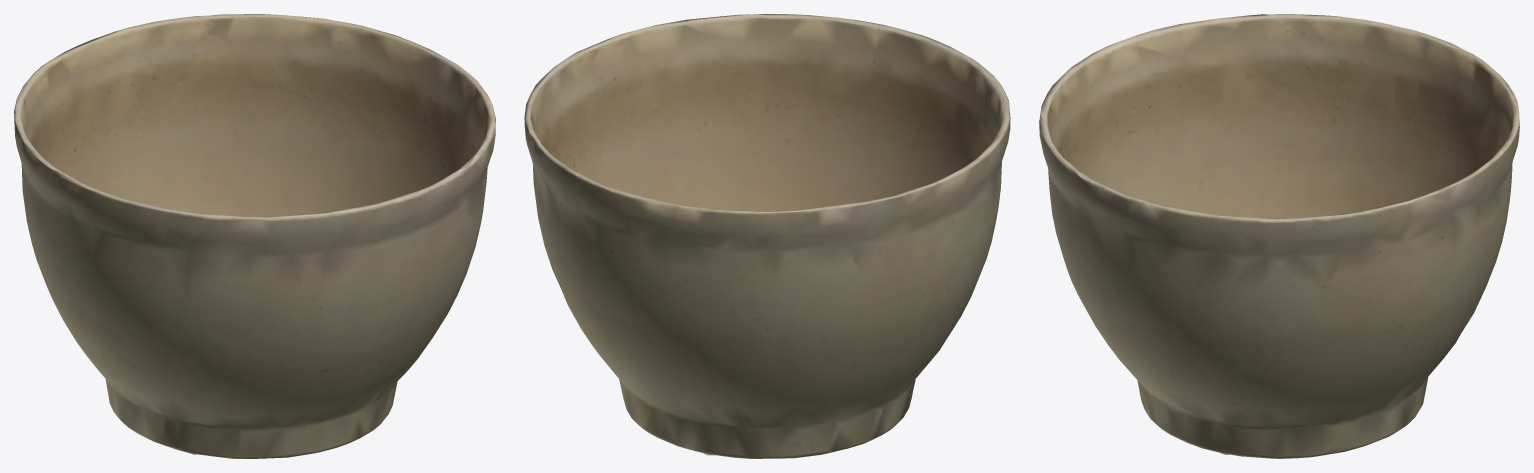
The model's file is footed-bowl.glb.
The picture shows the model from 3 angles, left to right: view 1: azimuth 30°, elevation 25°; view 2: azimuth 150°, elevation 25°; view 3: azimuth 270°, elevation 25°; orthographic projection.
Visible parts, largest first — view 1: Footed_Bowl_Sand; view 2: Footed_Bowl_Sand; view 3: Footed_Bowl_Sand.
Boxes of the visible parts, <box> form: Footed_Bowl_Sand: <box>14,14,495,458</box>; Footed_Bowl_Sand: <box>524,14,1010,458</box>; Footed_Bowl_Sand: <box>1039,14,1519,458</box>.
Bounding box in the file's own units: 0.1609 × 0.1088 × 0.1615.
Materials: 1 (1 with a texture image).
